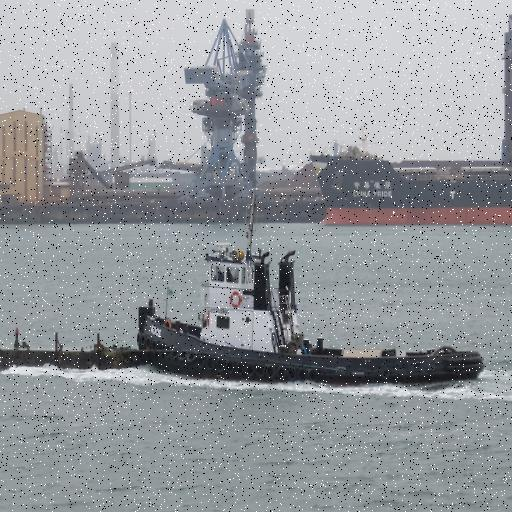tugboat: (133, 239, 489, 394)
